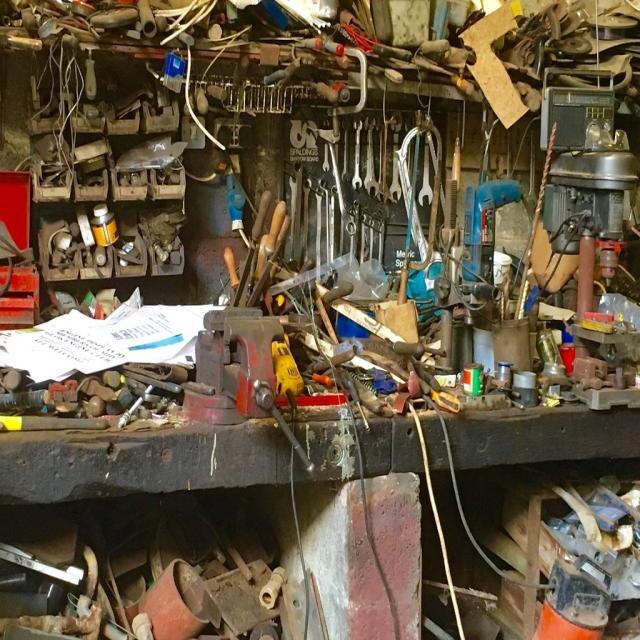Metal: (1, 9, 640, 640)
